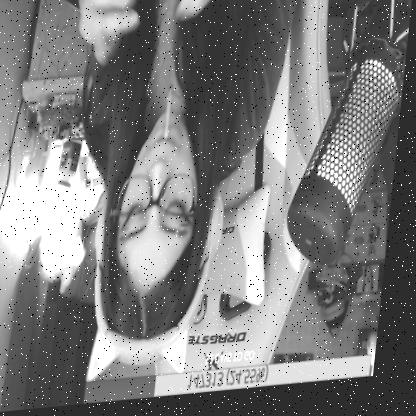streamer: (47, 0, 300, 389)
